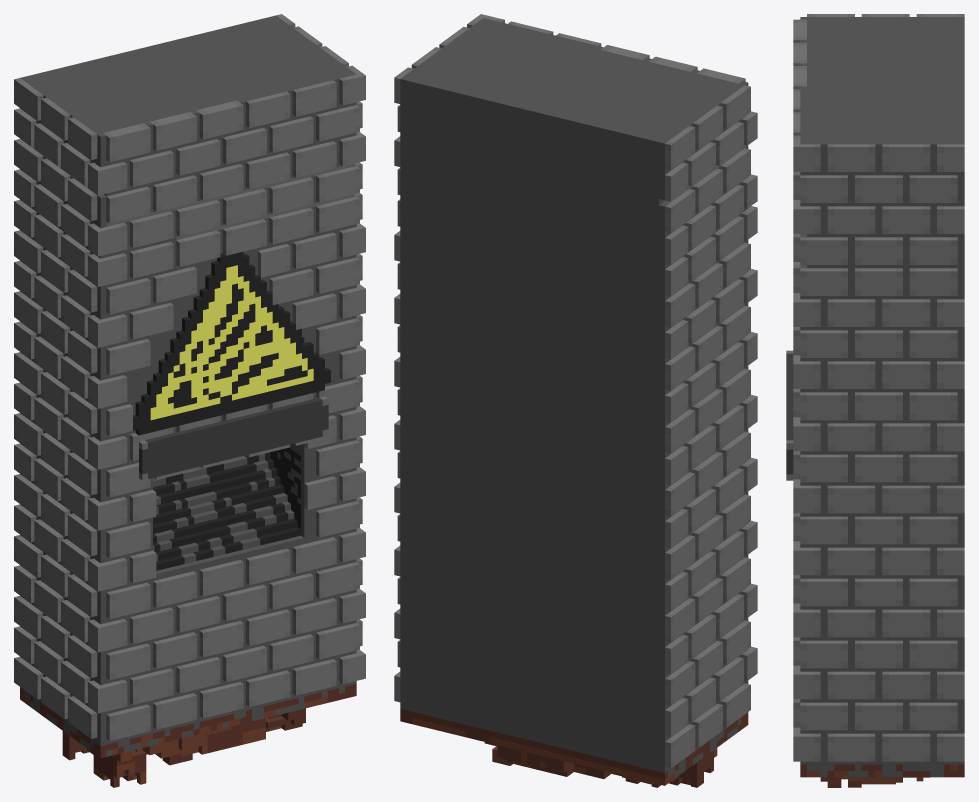
Rendered from explosives spawner.obj.
The picture shows the model from 3 angles, left to right: view 1: azimuth 30°, elevation 25°; view 2: azimuth 150°, elevation 25°; view 3: azimuth 270°, elevation 25°; orthographic projection. The views are drawn at different scales.
Bounding box in the file's own units: 4.6 × 10.9 × 2.6.
1 material, 1 textured.
